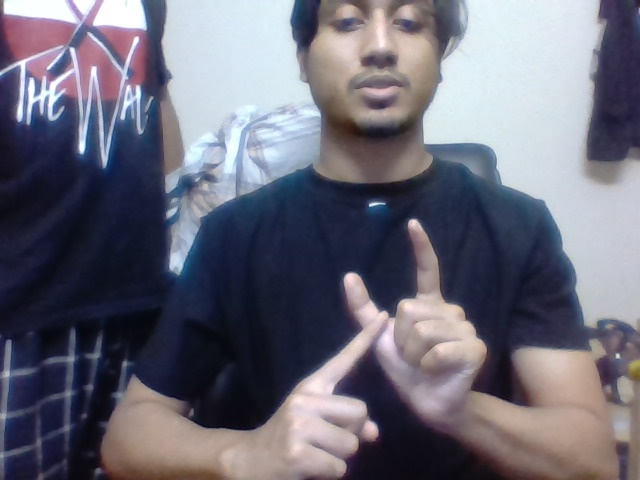Y: (328, 212, 448, 385)
